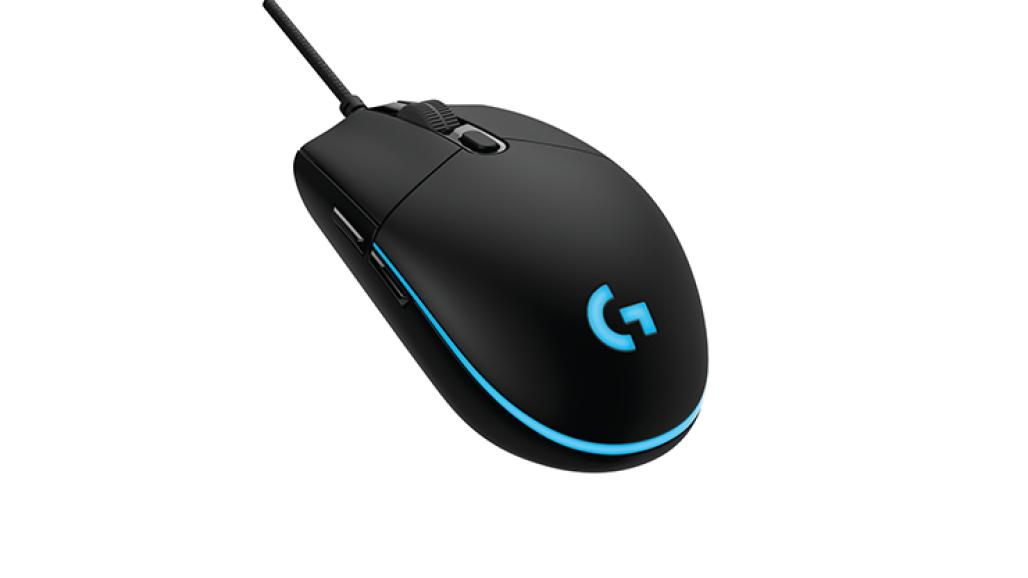mouse: (224, 8, 809, 515)
